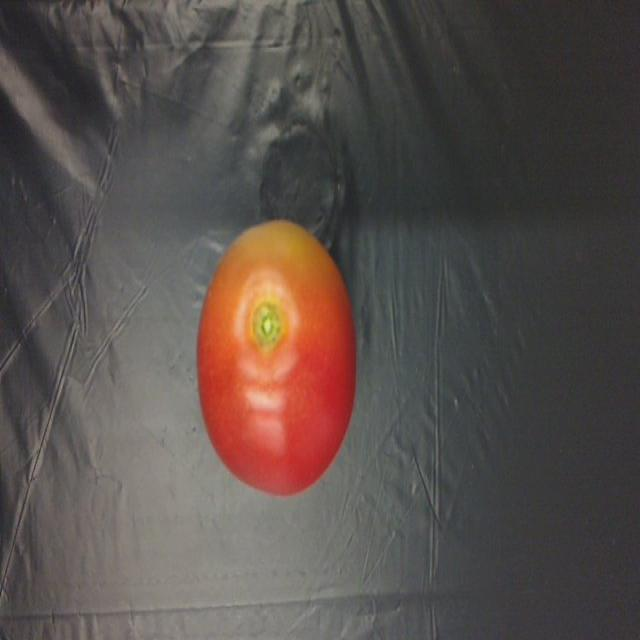unripe: (184, 198, 363, 474)
